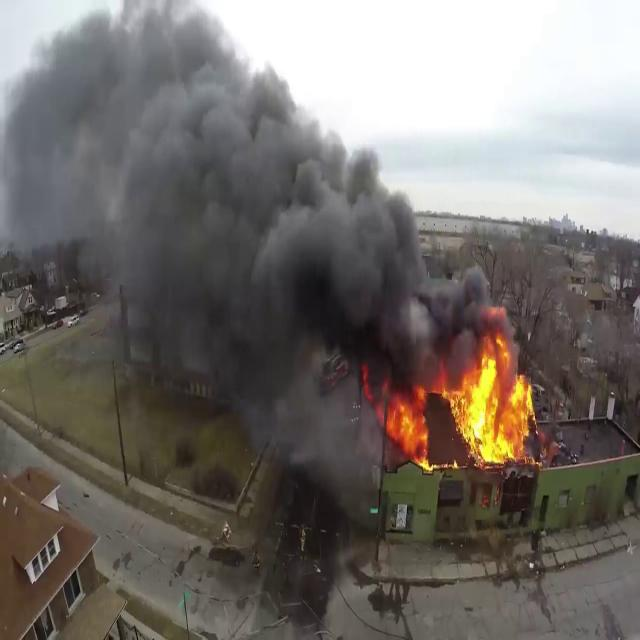Fire: (382, 330, 542, 469)
Smoke: (0, 0, 476, 398)
